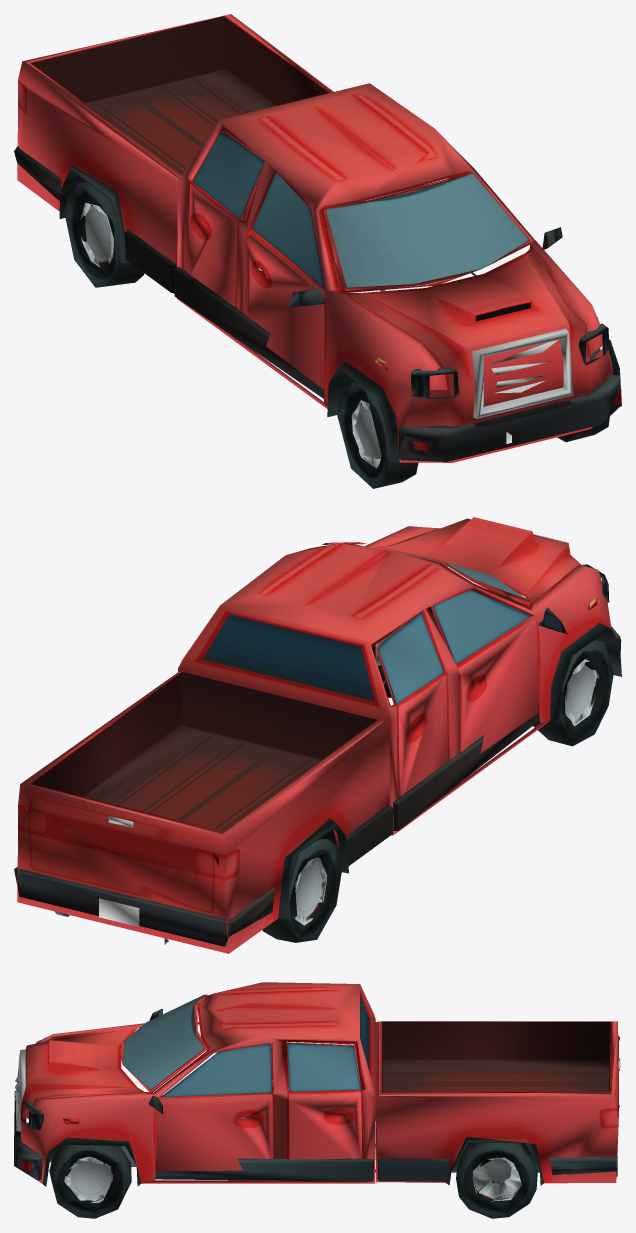
Rendered from pickup_lo.glb.
3 renders of one model, top to bottom at view 1: azimuth 30°, elevation 25°; view 2: azimuth 150°, elevation 25°; view 3: azimuth 270°, elevation 25°, orthographic. The views are drawn at different scales.
Visible parts, largest first — view 1: truck.1; view 2: truck.1; view 3: truck.1.
Part boxes in pixels (left/top/right/bottom): truck.1: left=14, top=14, right=621, bottom=488; truck.1: left=14, top=517, right=621, bottom=953; truck.1: left=14, top=982, right=620, bottom=1218.
Size of the model in its own units: 0.3871 by 0.3111 by 0.9919.
1 material, 1 textured.
